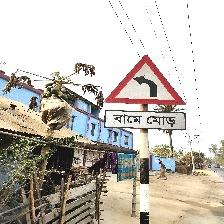Left-Turn: (103, 55, 187, 132)
